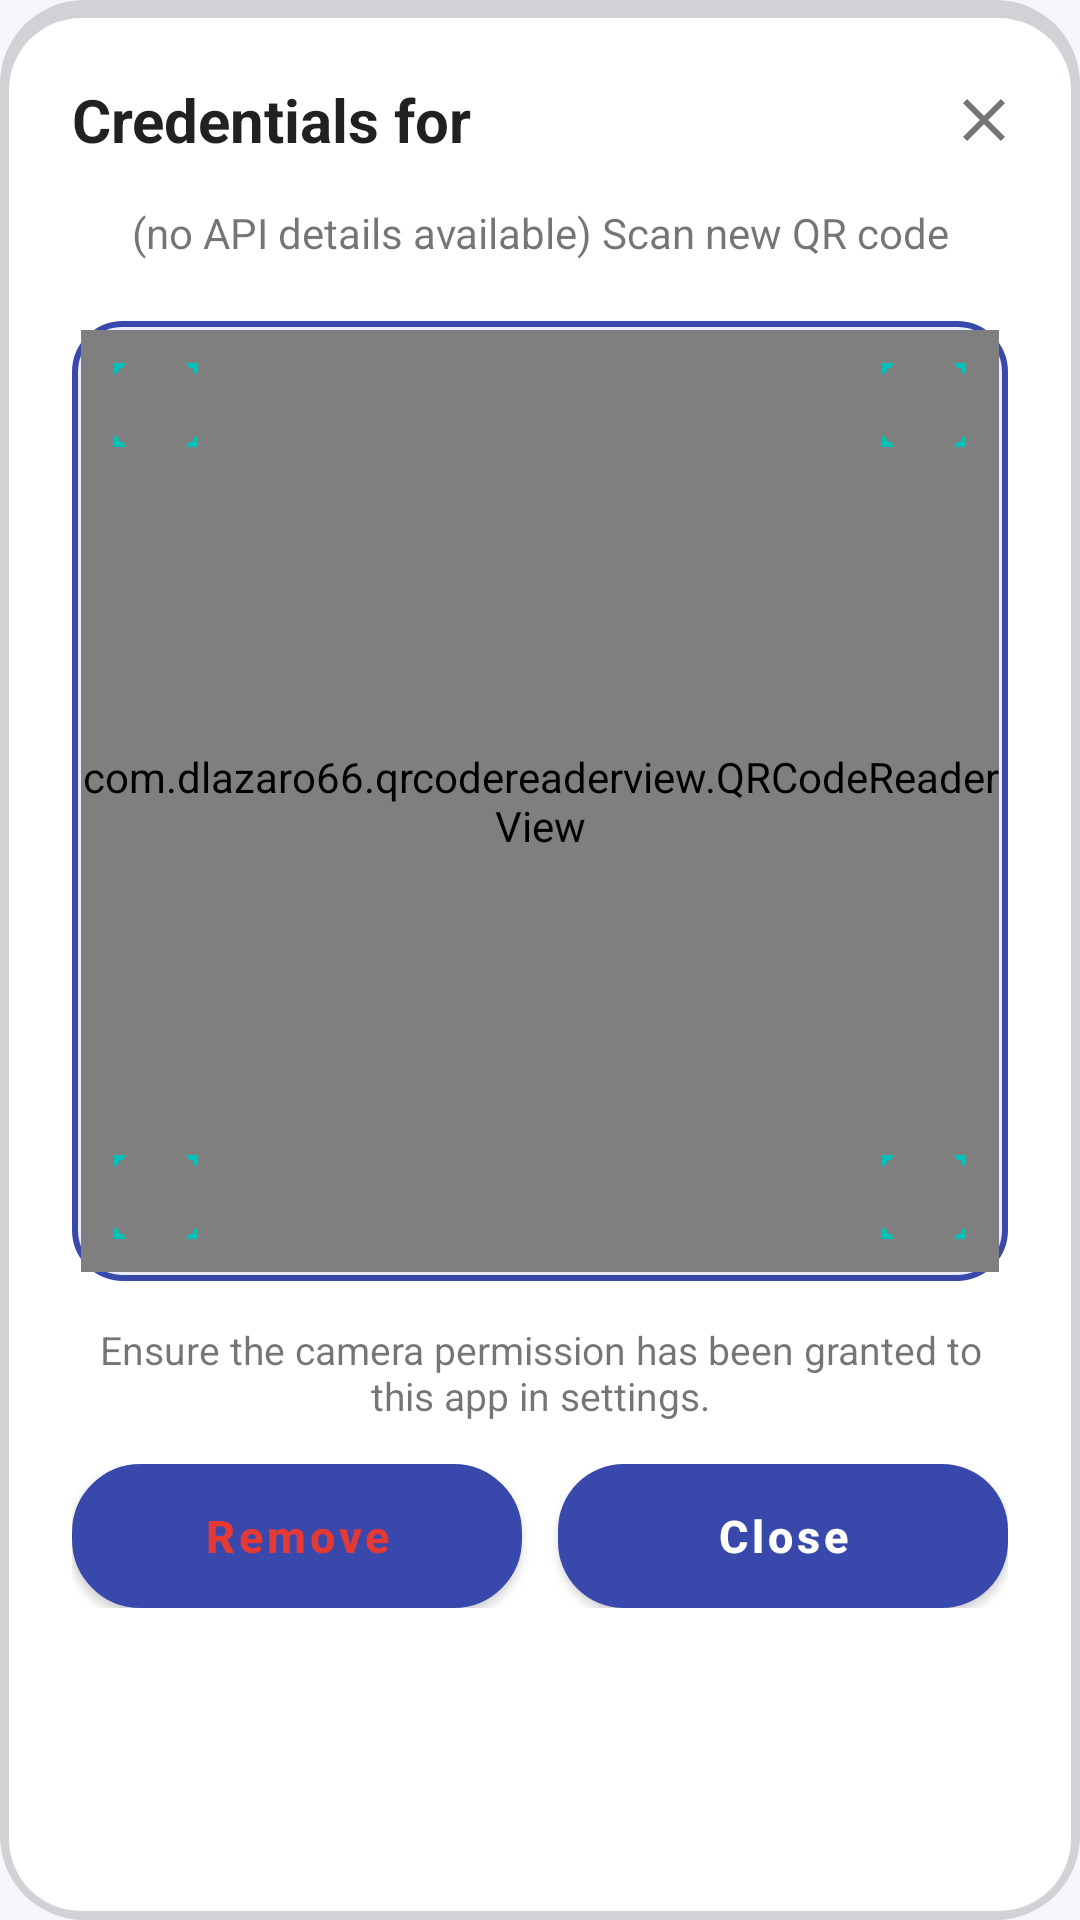

Icons on this 1080 x 1920 Android screen, each with the point to tap as (x,y):
Close: (984,120)
